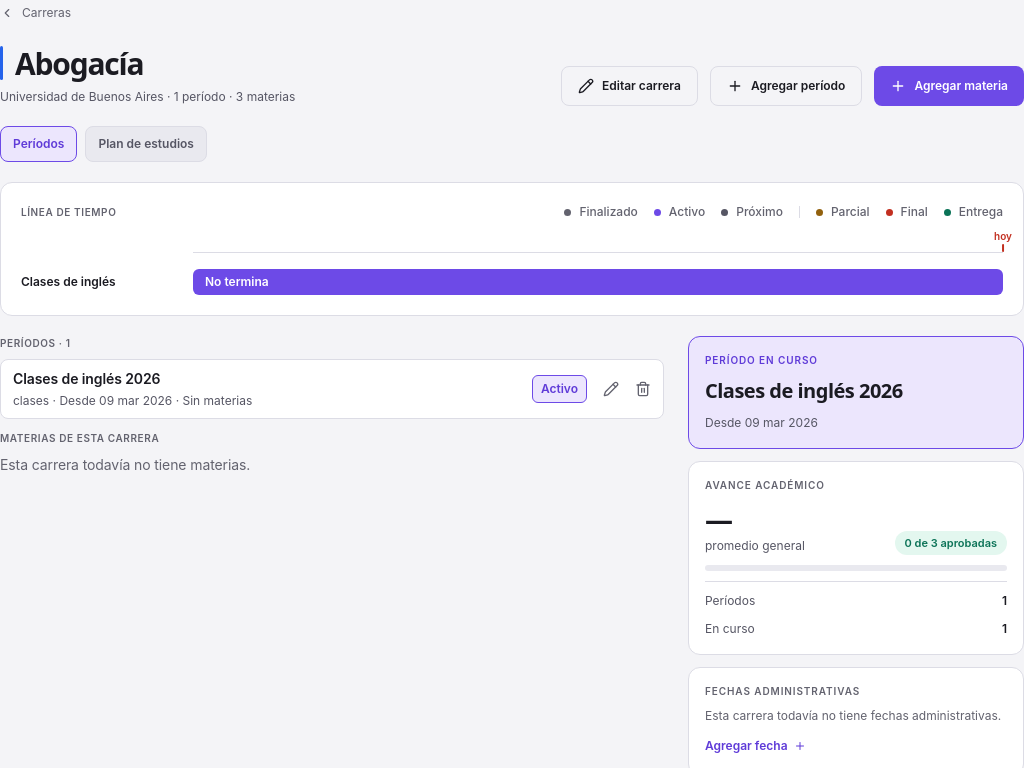
Test case: CarreraDetailContainer — editar y eliminar períodos › opens an open-ended period with the end date already waived
Expected: the heading "Abogacía" is shown, [15,46,144,80]
What coordinates should you click on to do the following:
click the button named "Editar Clases de inglés"
I would click on:
 (611, 389)
Its box is [595,373,627,405].
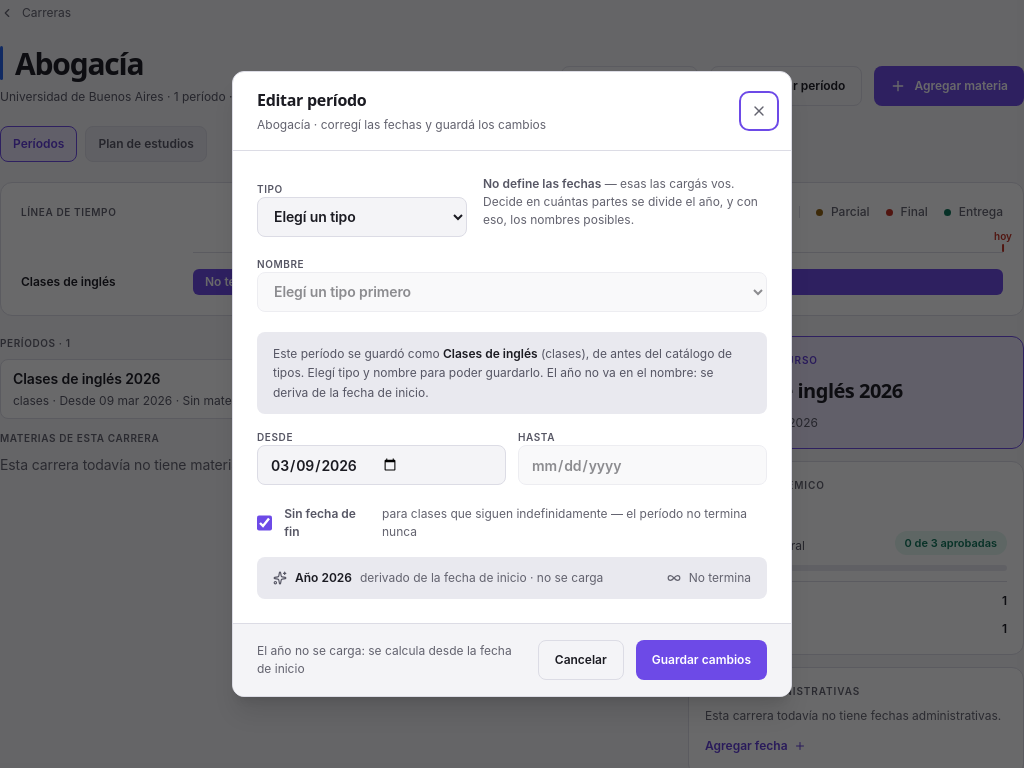
Now the checkbox labelled "Sin fecha de fin" is checked, box [257,515,272,531]
